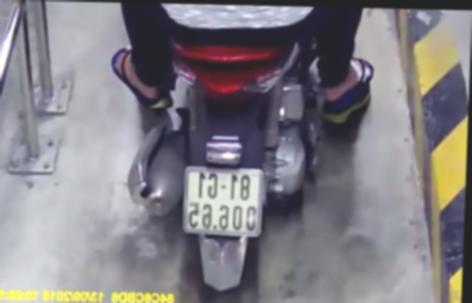License_Plate: (178, 160, 272, 241)
